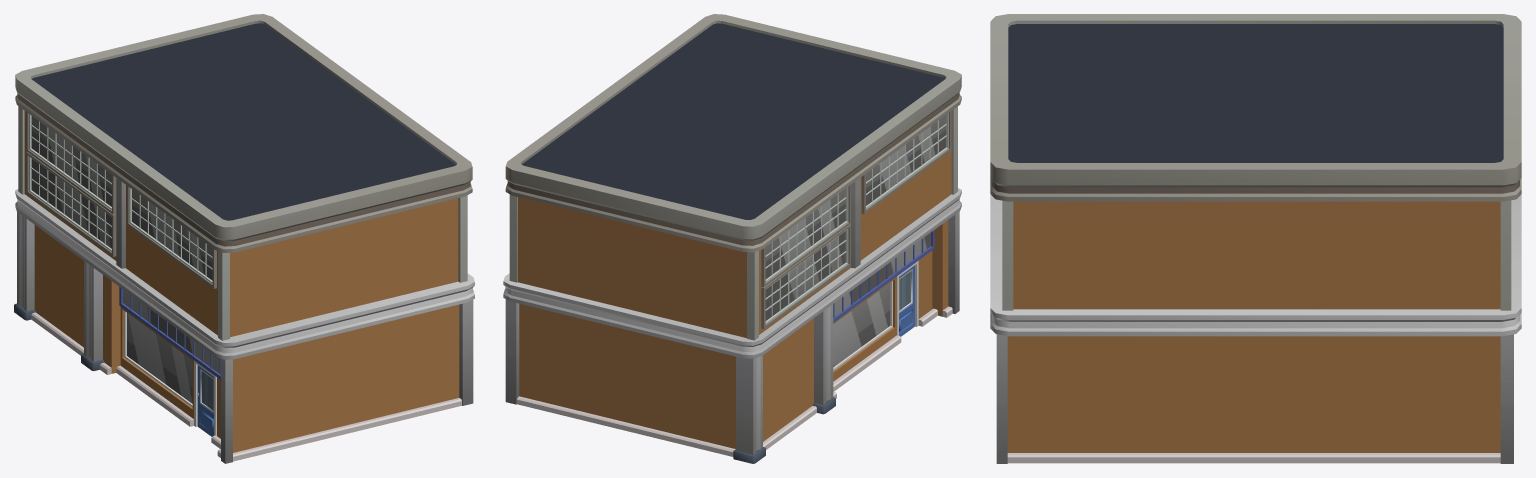
File: Building_11_3_H.fbx
3 views of the same model, side by side, from view 1: azimuth 30°, elevation 25°; view 2: azimuth 150°, elevation 25°; view 3: azimuth 270°, elevation 25° (orthographic). The views are drawn at different scales.
Visible parts, largest first — view 1: Building_11_3_H; view 2: Building_11_3_H; view 3: Building_11_3_H.
Boxes of the visible parts, x1,y1,x2,y2 form: Building_11_3_H: (14,14,474,463); Building_11_3_H: (503,14,961,463); Building_11_3_H: (990,14,1521,463).
Bounding box in the file's own units: 814 × 715 × 1163.
